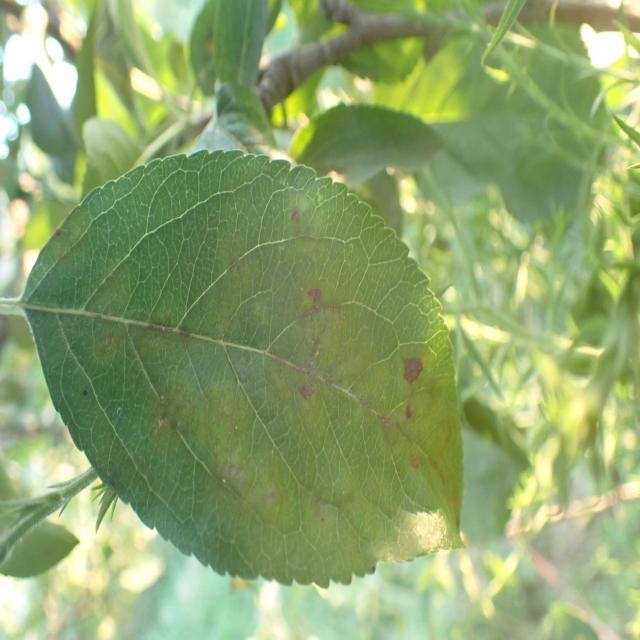scab: (40, 200, 472, 562)
